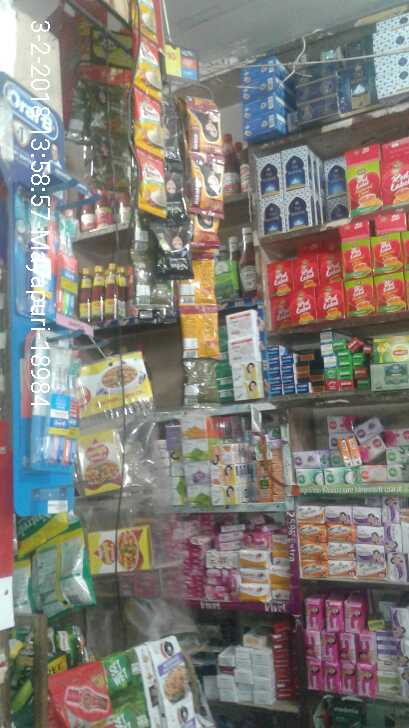oralb: (37, 327, 90, 472), (27, 207, 88, 322)
